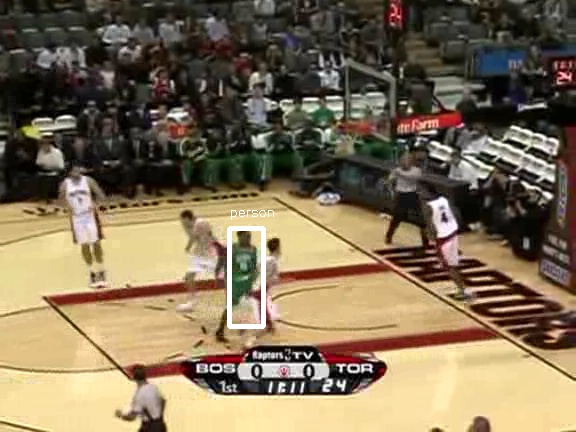person: (228, 230, 262, 311), (227, 230, 261, 311), (229, 230, 263, 311), (228, 229, 262, 310), (228, 231, 262, 312)
target_negative: (179, 180, 563, 391), (485, 40, 564, 287), (435, 155, 483, 378), (407, 269, 521, 326), (555, 315, 575, 396), (566, 9, 571, 332)
